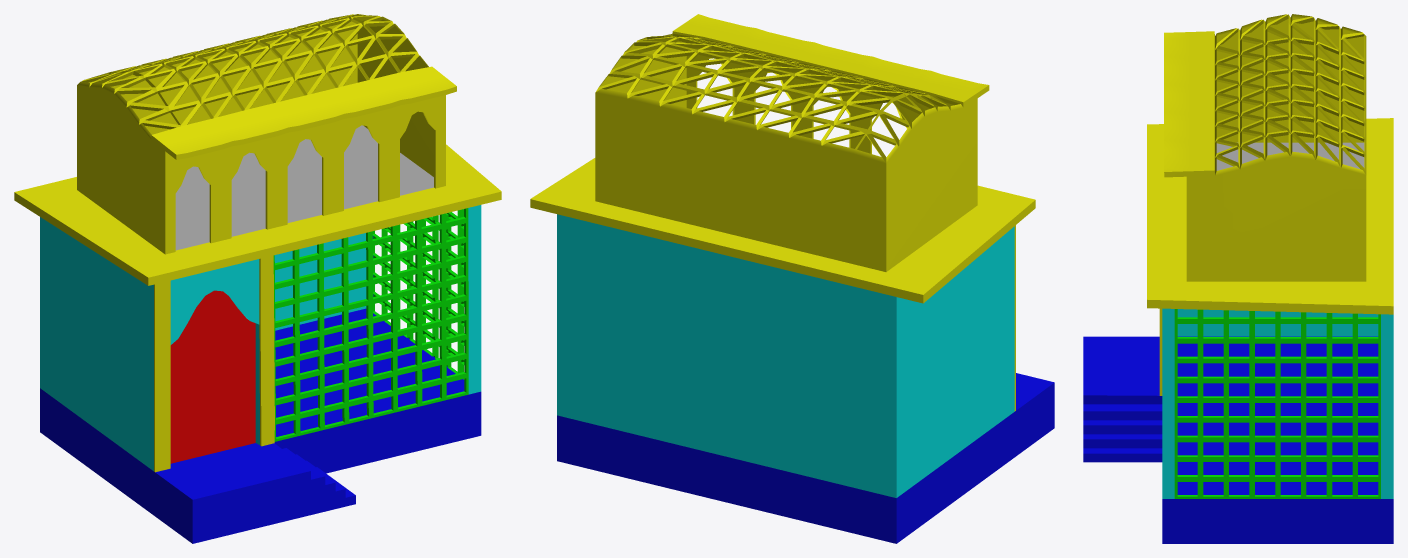
Rendered from Building3.fbx.
The picture shows the model from 3 angles, left to right: view 1: azimuth 30°, elevation 25°; view 2: azimuth 150°, elevation 25°; view 3: azimuth 270°, elevation 25°; orthographic projection. The views are drawn at different scales.
Parts seen in each view (by area): view 1: pCube3; view 2: pCube3; view 3: pCube3.
Boxes of the visible parts, x1,y1,x2,y2 form: pCube3: (14,14,501,543); pCube3: (530,14,1054,543); pCube3: (1083,14,1393,543).
Size of the model in its own units: 2427 by 2321 by 1692.
